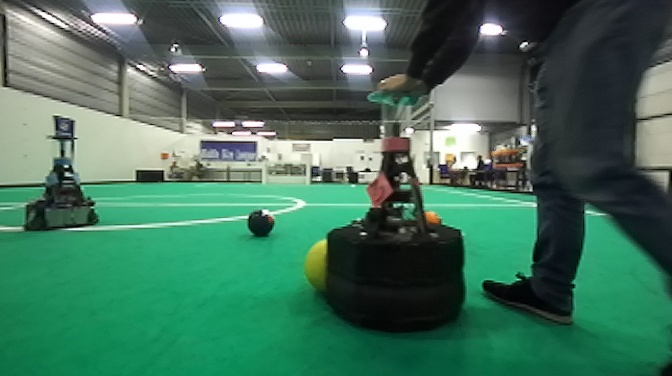ball: (302, 233, 328, 296), (243, 204, 278, 243), (423, 209, 442, 228)
goal: (261, 158, 312, 189)
goalpost: (303, 159, 312, 188), (261, 158, 266, 187)
human: (373, 1, 672, 329)
robot: (326, 86, 474, 336), (17, 111, 102, 233)
